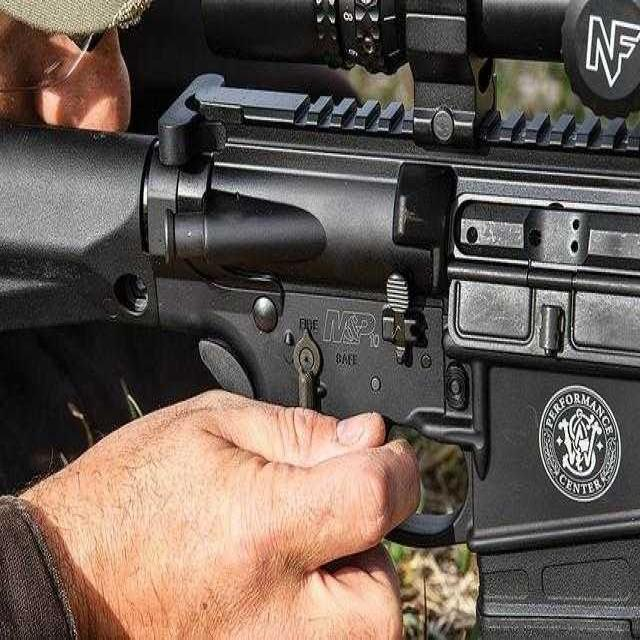weapon: (0, 28, 639, 640)
